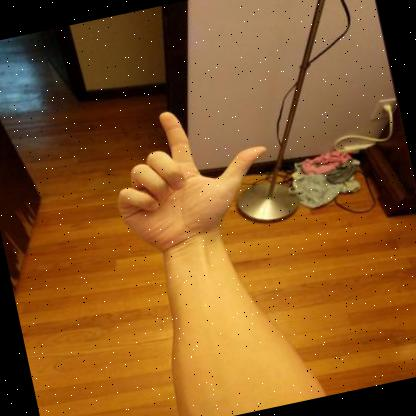L: (117, 111, 266, 257)
